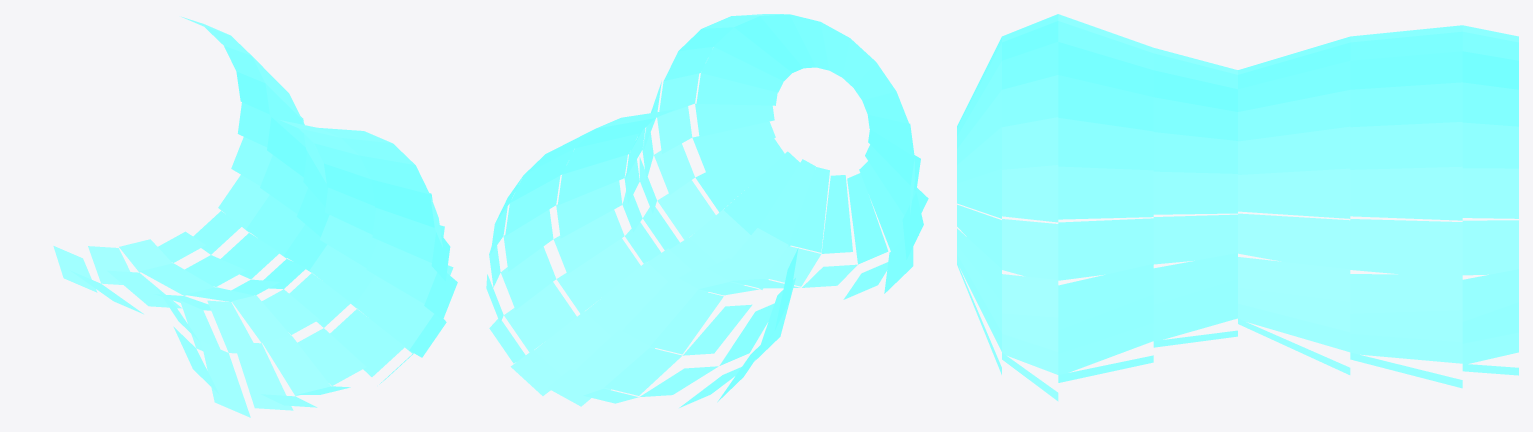
The model's file is mesh_jacket_cyber.glb.
The picture shows the model from 3 angles, left to right: view 1: azimuth 30°, elevation 25°; view 2: azimuth 150°, elevation 25°; view 3: azimuth 270°, elevation 25°; orthographic projection. The views are drawn at different scales.
Bounding box in the file's own units: 0.4033 × 0.3786 × 0.55.
